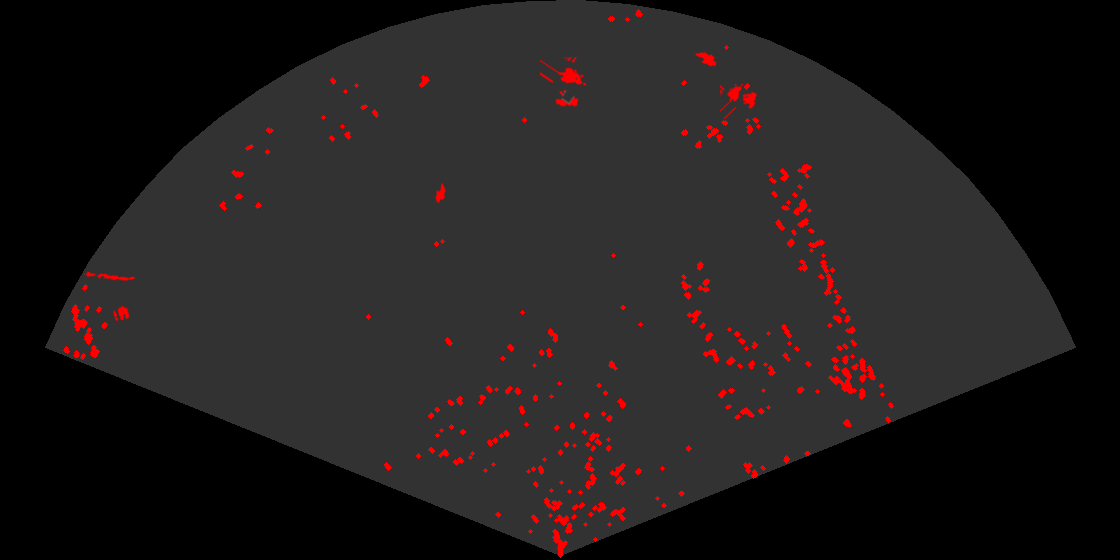AUV: (694, 51, 718, 68), (434, 181, 446, 205)
ball: (112, 304, 131, 323)
cage: (540, 57, 588, 108), (720, 82, 758, 119)
chain: (84, 270, 136, 283)
